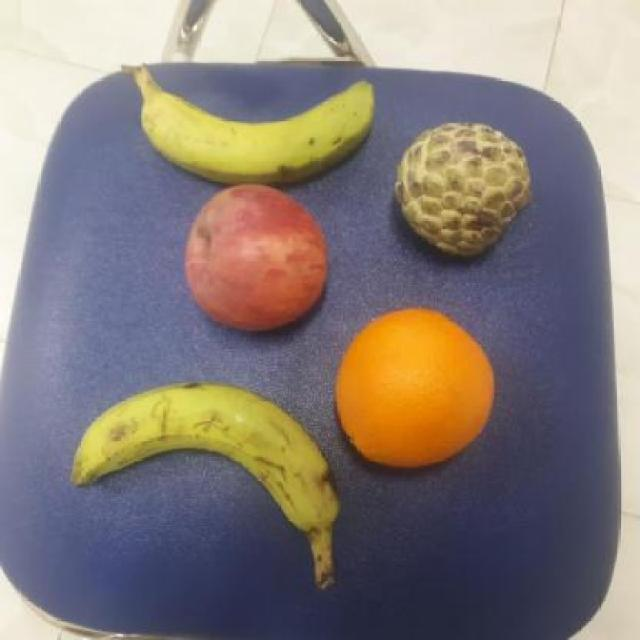apple: (183, 182, 328, 331)
banana: (70, 378, 342, 527), (135, 79, 381, 181)
pear: (331, 307, 497, 468)
sugar apple: (394, 119, 534, 258)
